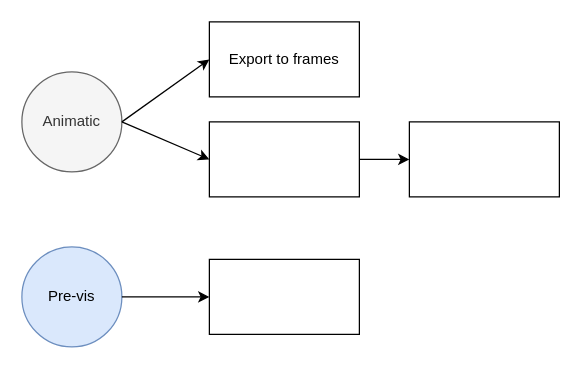
Image size: 581x369. Some labels were removed from this diagram. Each missing label, with the box of its shape:
Export to GIF: (208, 121, 359, 197)
Playblast with AO: (208, 258, 359, 334)
